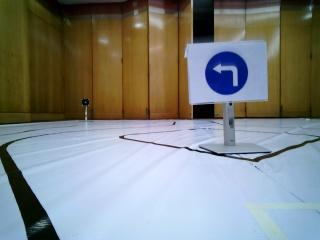left: (193, 45, 266, 101)
